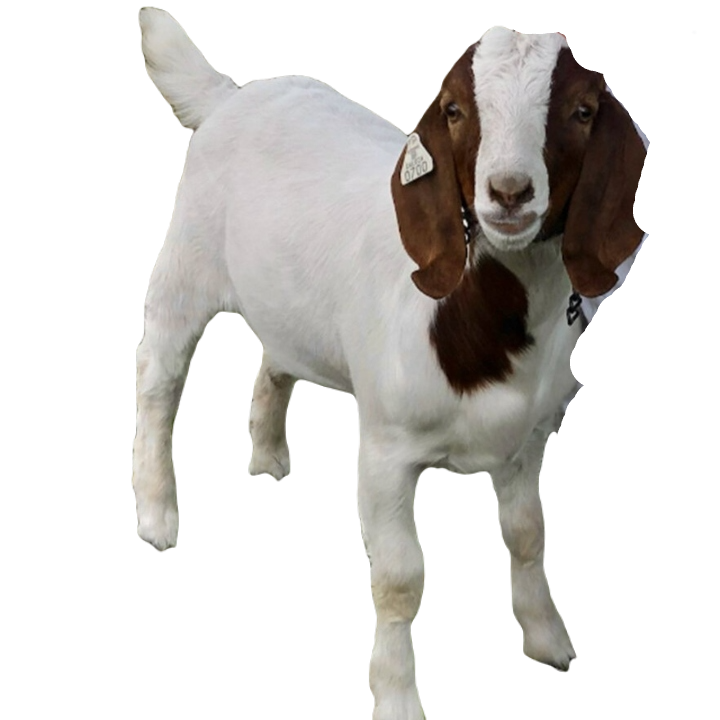Goat: (129, 6, 650, 719)
